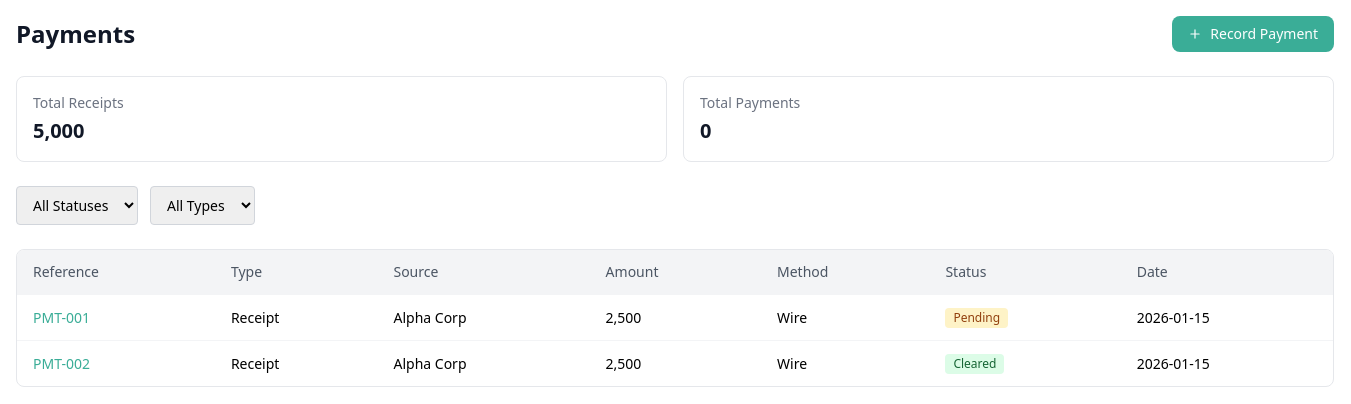
Test case: PaymentsPage — /finance/payments › T-FIN-FE-F-R035 — Status filter dropdown filters payment rows client-side
The image size is (1351, 404).
Expected: the link "PMT-001" is shown, [33, 308, 90, 326]
Select "Cleared" in the 1st dropdown: (77, 206) [16, 186, 138, 225]
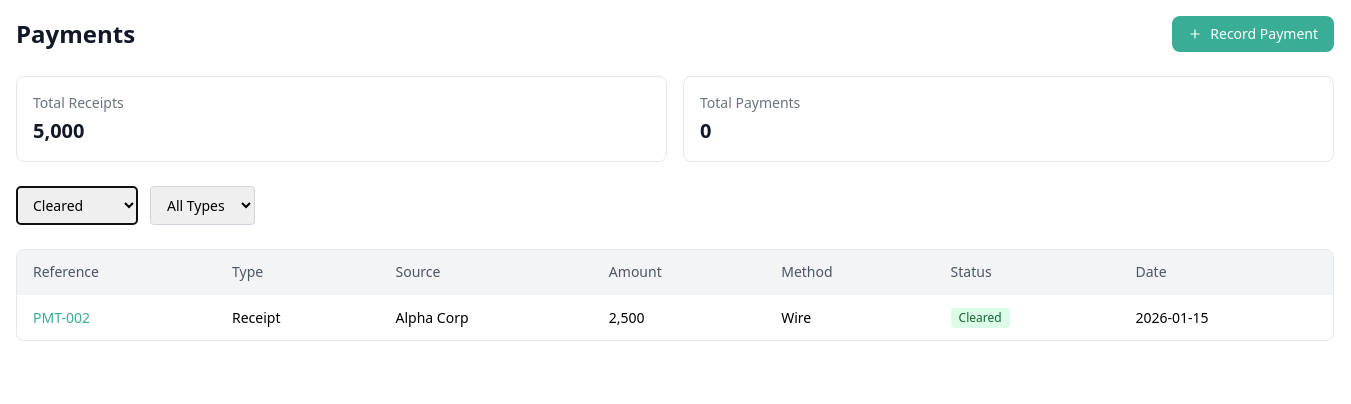
Expected: the link "PMT-002" is shown, [33, 308, 90, 326]
Expected: the link "PMT-001" is gone
